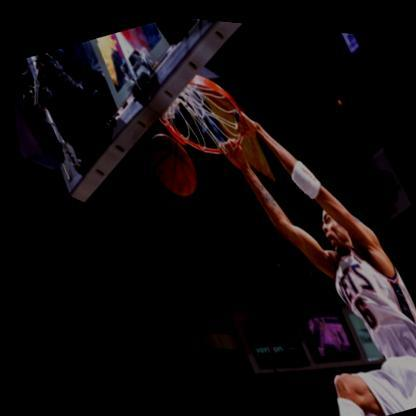basketball: (133, 121, 204, 203)
